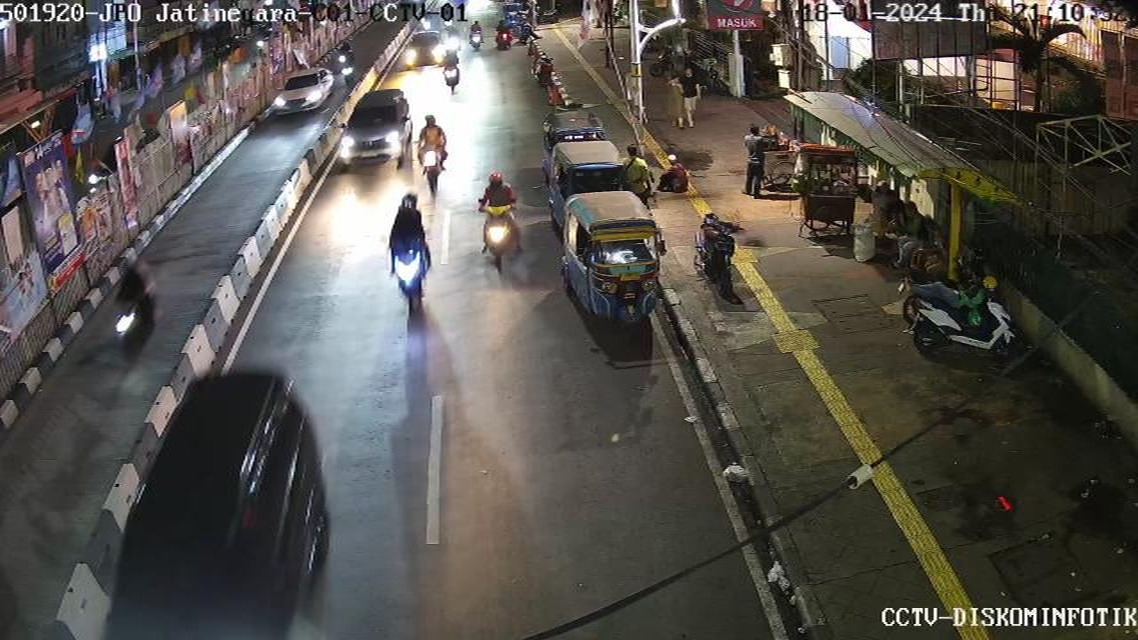Gerobak: (795, 139, 866, 258), (734, 116, 797, 203)
